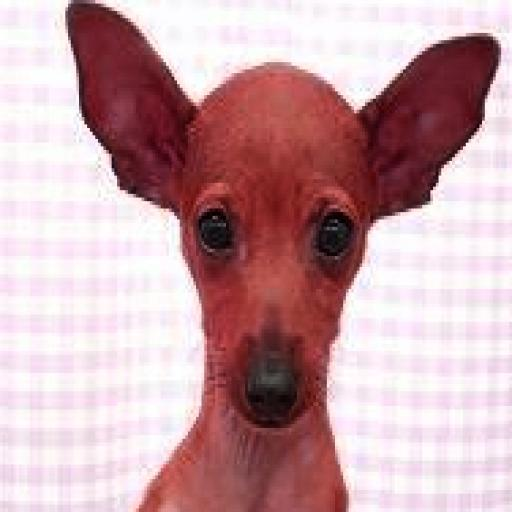dog_face: (68, 4, 496, 457)
